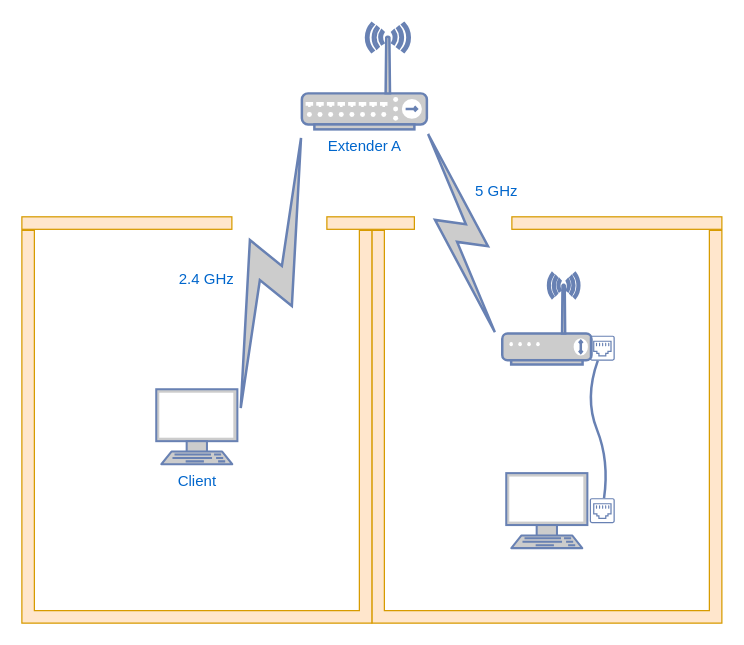
This 744x645 diagram has some shape labels left out. Here are the shapes that lost their labels. From the top down, the box of each, then its label:
(500, 271, 592, 365): Gateway
(504, 471, 588, 549): Server
